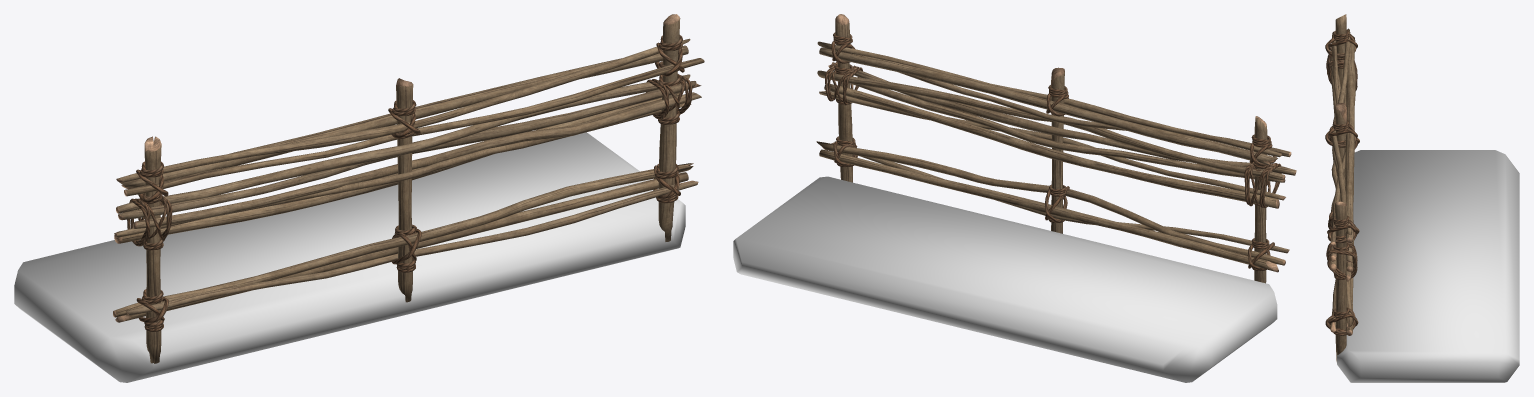
The model's file is SM_Fencing_B.fbx.
3 renders of one model, left to right at view 1: azimuth 30°, elevation 25°; view 2: azimuth 150°, elevation 25°; view 3: azimuth 270°, elevation 25°, orthographic. The views are drawn at different scales.
Visible parts, largest first — view 1: SM_Fencing_B_ConvexHulls, SM_Fencing_B; view 2: SM_Fencing_B_ConvexHulls, SM_Fencing_B; view 3: SM_Fencing_B_ConvexHulls, SM_Fencing_B.
Part boxes in pixels (left/top/right/bottom): SM_Fencing_B_ConvexHulls: left=14, top=132, right=685, bottom=382; SM_Fencing_B: left=113, top=14, right=704, bottom=363; SM_Fencing_B_ConvexHulls: left=733, top=176, right=1277, bottom=382; SM_Fencing_B: left=816, top=14, right=1296, bottom=283; SM_Fencing_B_ConvexHulls: left=1337, top=150, right=1519, bottom=382; SM_Fencing_B: left=1325, top=14, right=1359, bottom=361.
Size of the model in its own units: 3.09 by 1.23 by 1.21.
